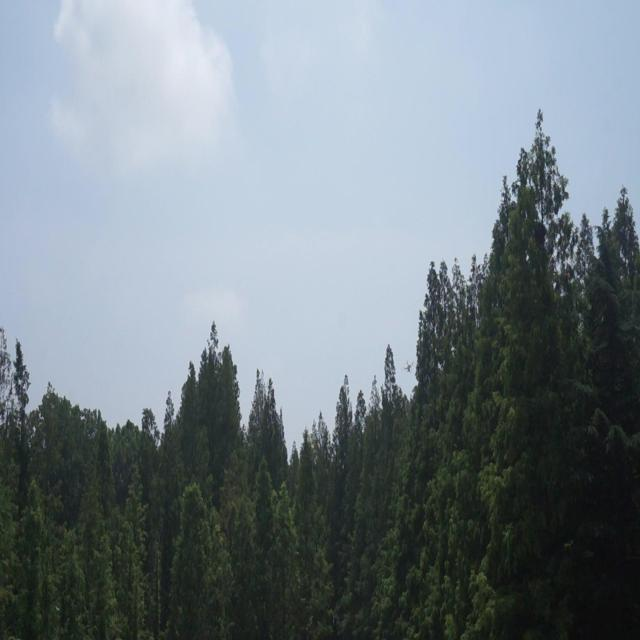drone: (404, 357, 415, 376)
